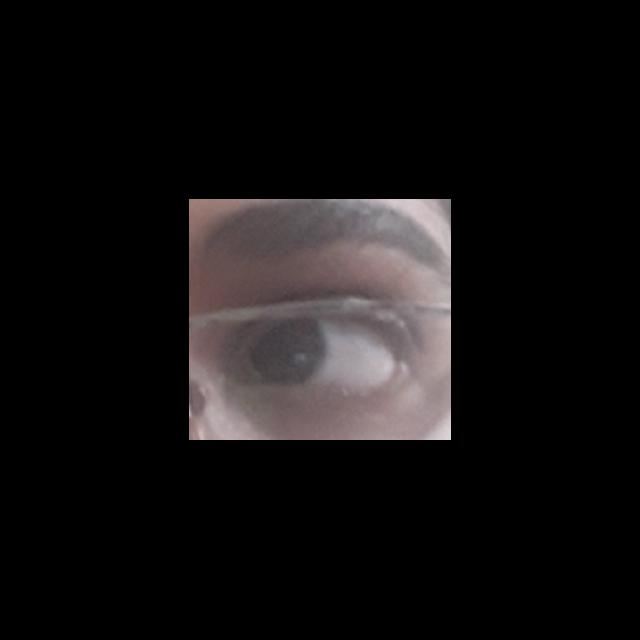eye: (241, 315, 397, 390)
iris: (245, 317, 321, 388)
